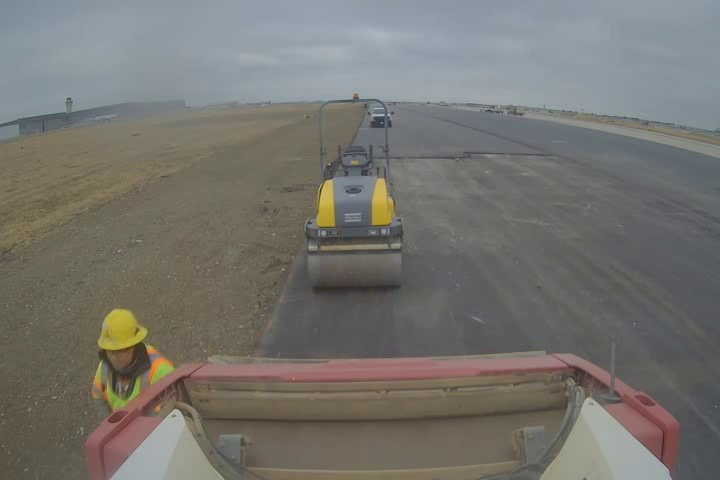person: (90, 306, 174, 411)
vehicle: (86, 348, 682, 477), (306, 97, 403, 287), (354, 109, 382, 136)
vest: (90, 346, 170, 412)
yellow_helmet: (97, 308, 148, 375)
